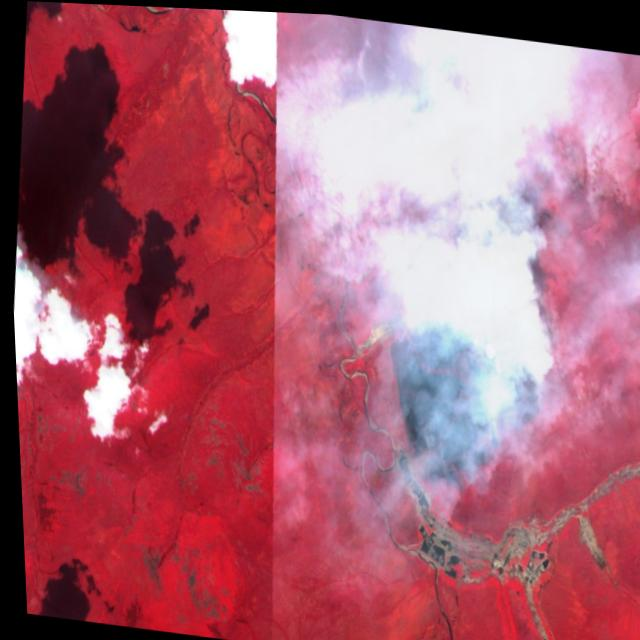fire: (368, 281, 552, 510)
